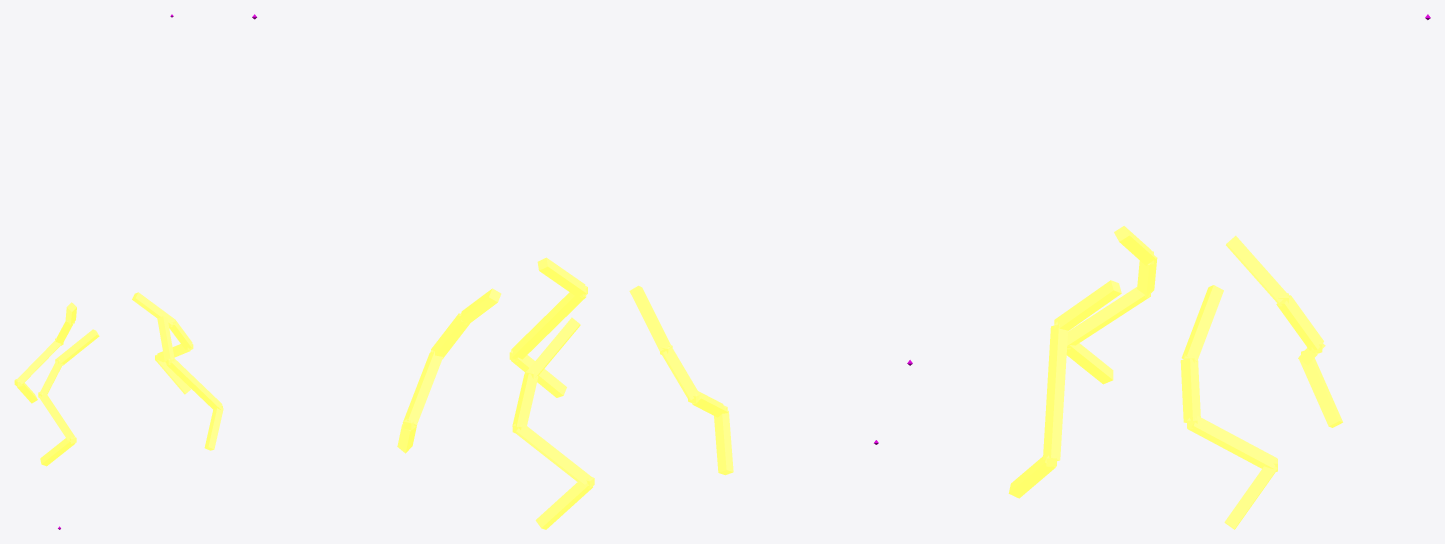
Rendered from acc_lava_cracks.fbx.
3 renders of one model, left to right at view 1: azimuth 30°, elevation 25°; view 2: azimuth 150°, elevation 25°; view 3: azimuth 270°, elevation 25°, orthographic. The views are drawn at different scales.
Parts seen in each view (by area): view 1: Cracks; view 2: Cracks; view 3: Cracks.
Part boxes in pixels (box(x1,y1,x2,y2)): Cracks: box(14, 292, 223, 466); Cracks: box(397, 257, 733, 529); Cracks: box(1008, 226, 1342, 529).
Size of the model in its own units: 2.99 by 3.6 by 2.99.
